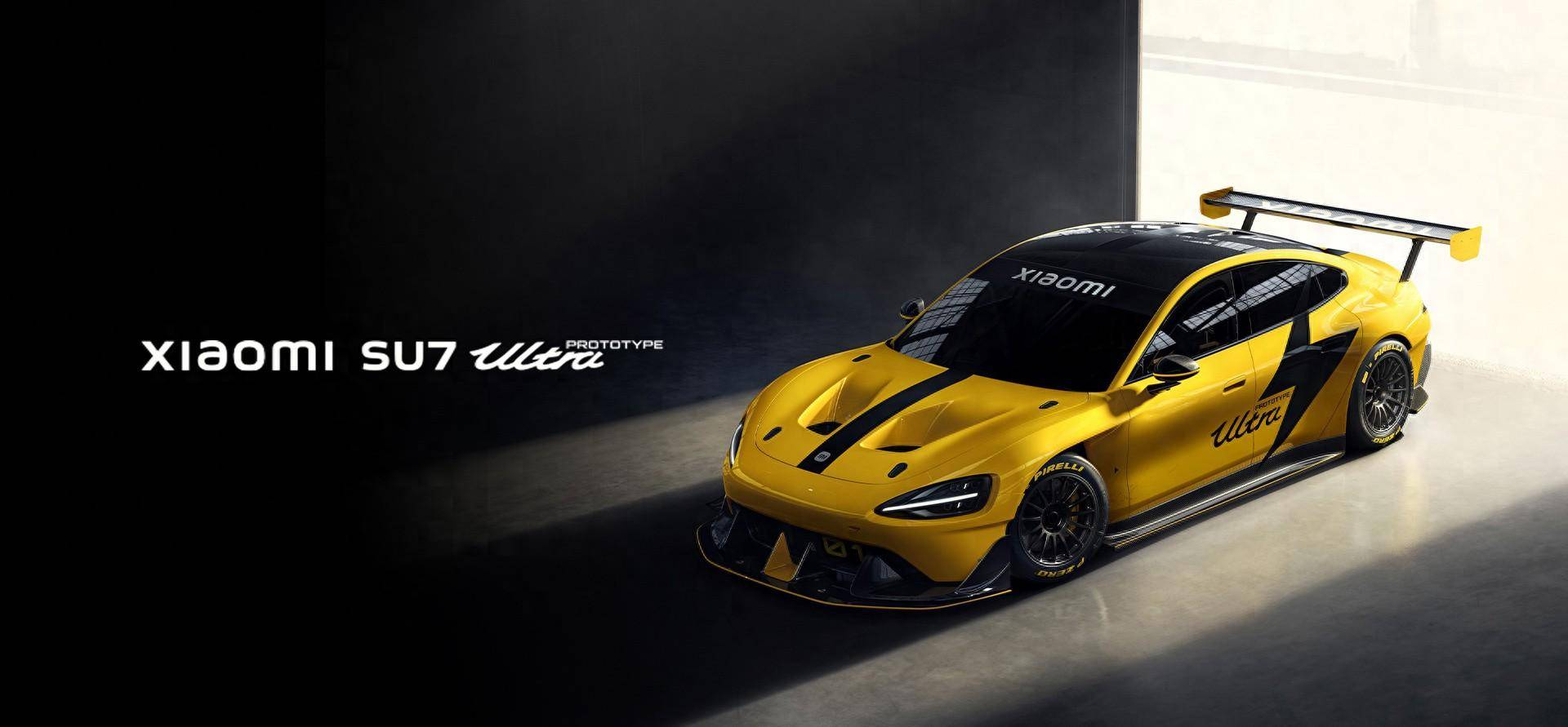su7: (685, 183, 1448, 598)
